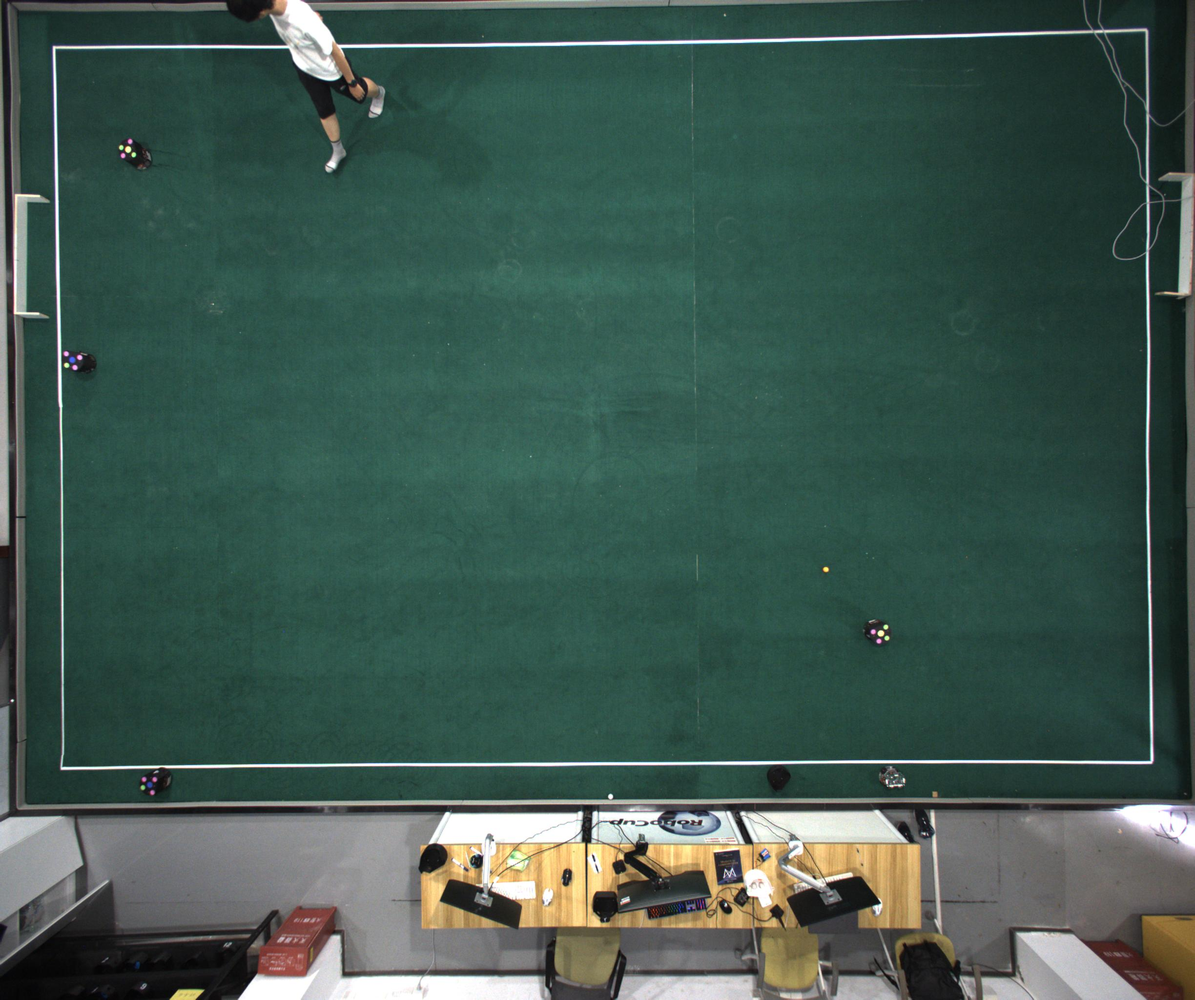ball: (822, 567, 829, 573)
blue_bot: (62, 350, 83, 371), (140, 775, 159, 796)
yellow_bot: (870, 625, 892, 645), (119, 139, 137, 161)
